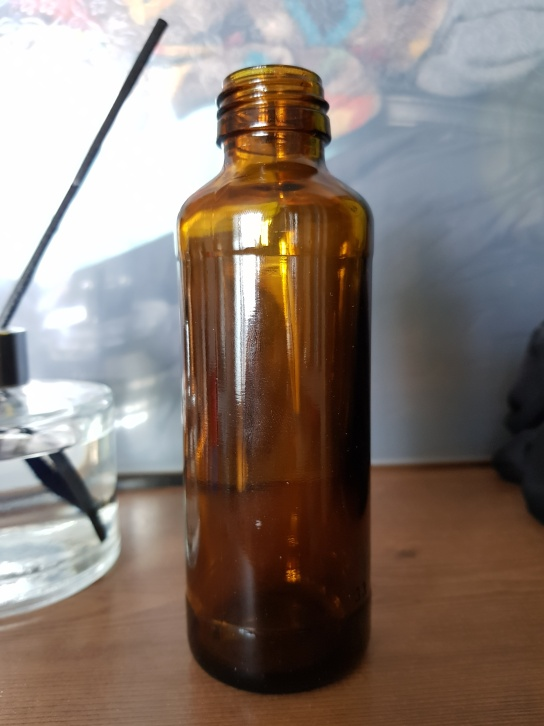Glass: (185, 62, 374, 695)
